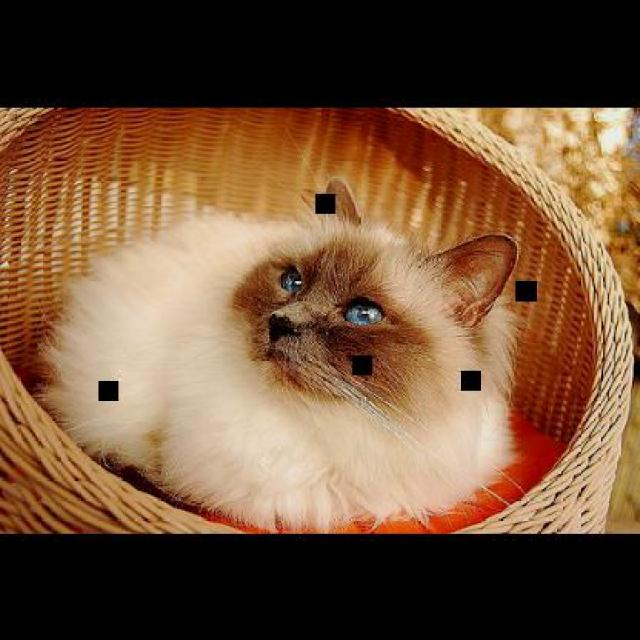unauthorized: (34, 175, 521, 532)
